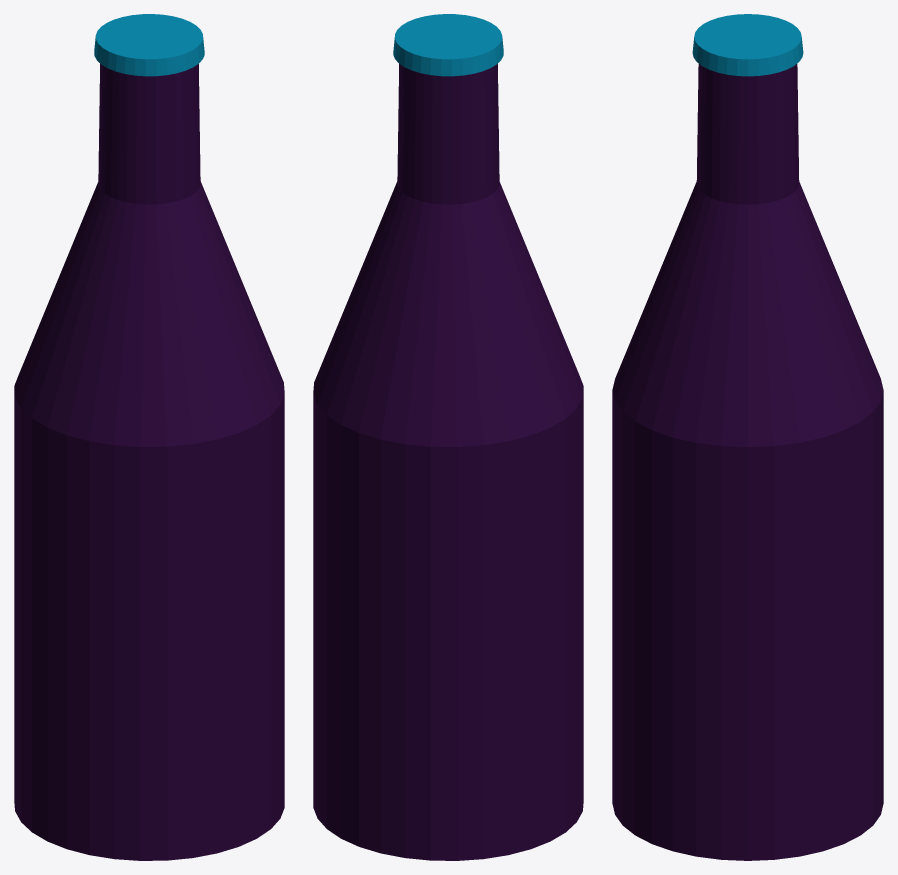
File: bottle3.fbx
3 renders of one model, left to right at view 1: azimuth 30°, elevation 25°; view 2: azimuth 150°, elevation 25°; view 3: azimuth 270°, elevation 25°, orthographic.
Parts seen in each view (by area): view 1: bottle3; view 2: bottle3; view 3: bottle3.
Part boxes in pixels (x1,y1,x2,y2): bottle3: (14, 14, 284, 860); bottle3: (313, 14, 583, 860); bottle3: (612, 14, 883, 860).
Size of the model in its own units: 200 by 624 by 200.
